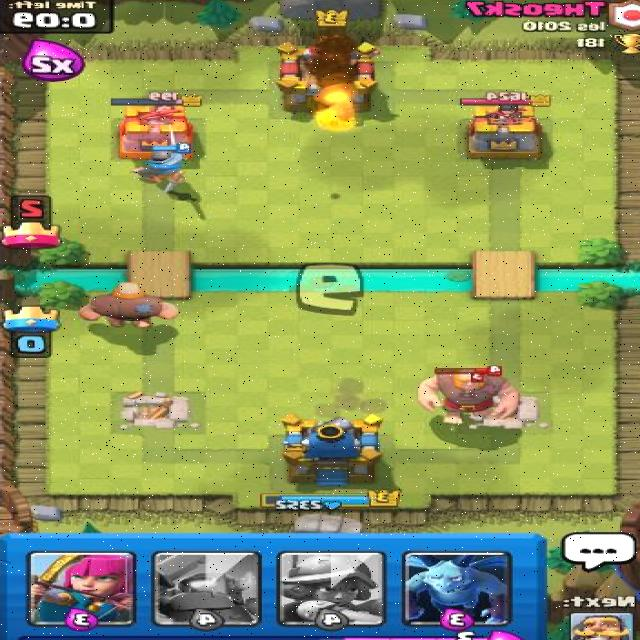Enemy-Giant: (414, 364, 522, 427)
Enemy-MiniPEKKA: (453, 371, 502, 404)
Player-Giant: (76, 280, 182, 329)
Player-Knight: (127, 124, 195, 181)
